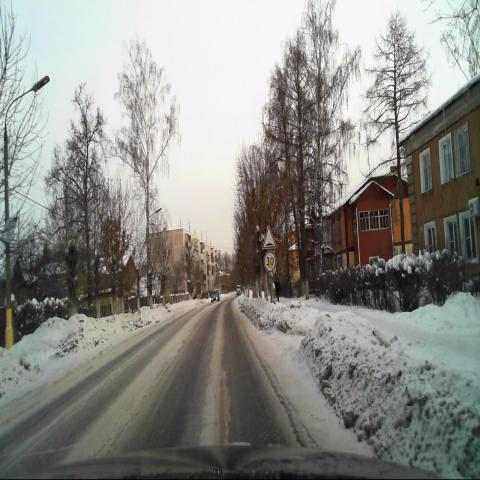1_17: (262, 226, 276, 249)
3_24: (264, 251, 276, 272)
